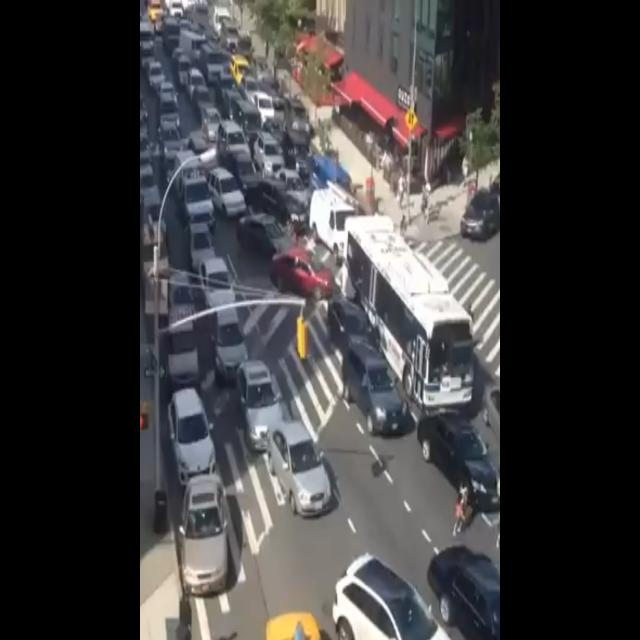Ambulance: (174, 141, 217, 229)
